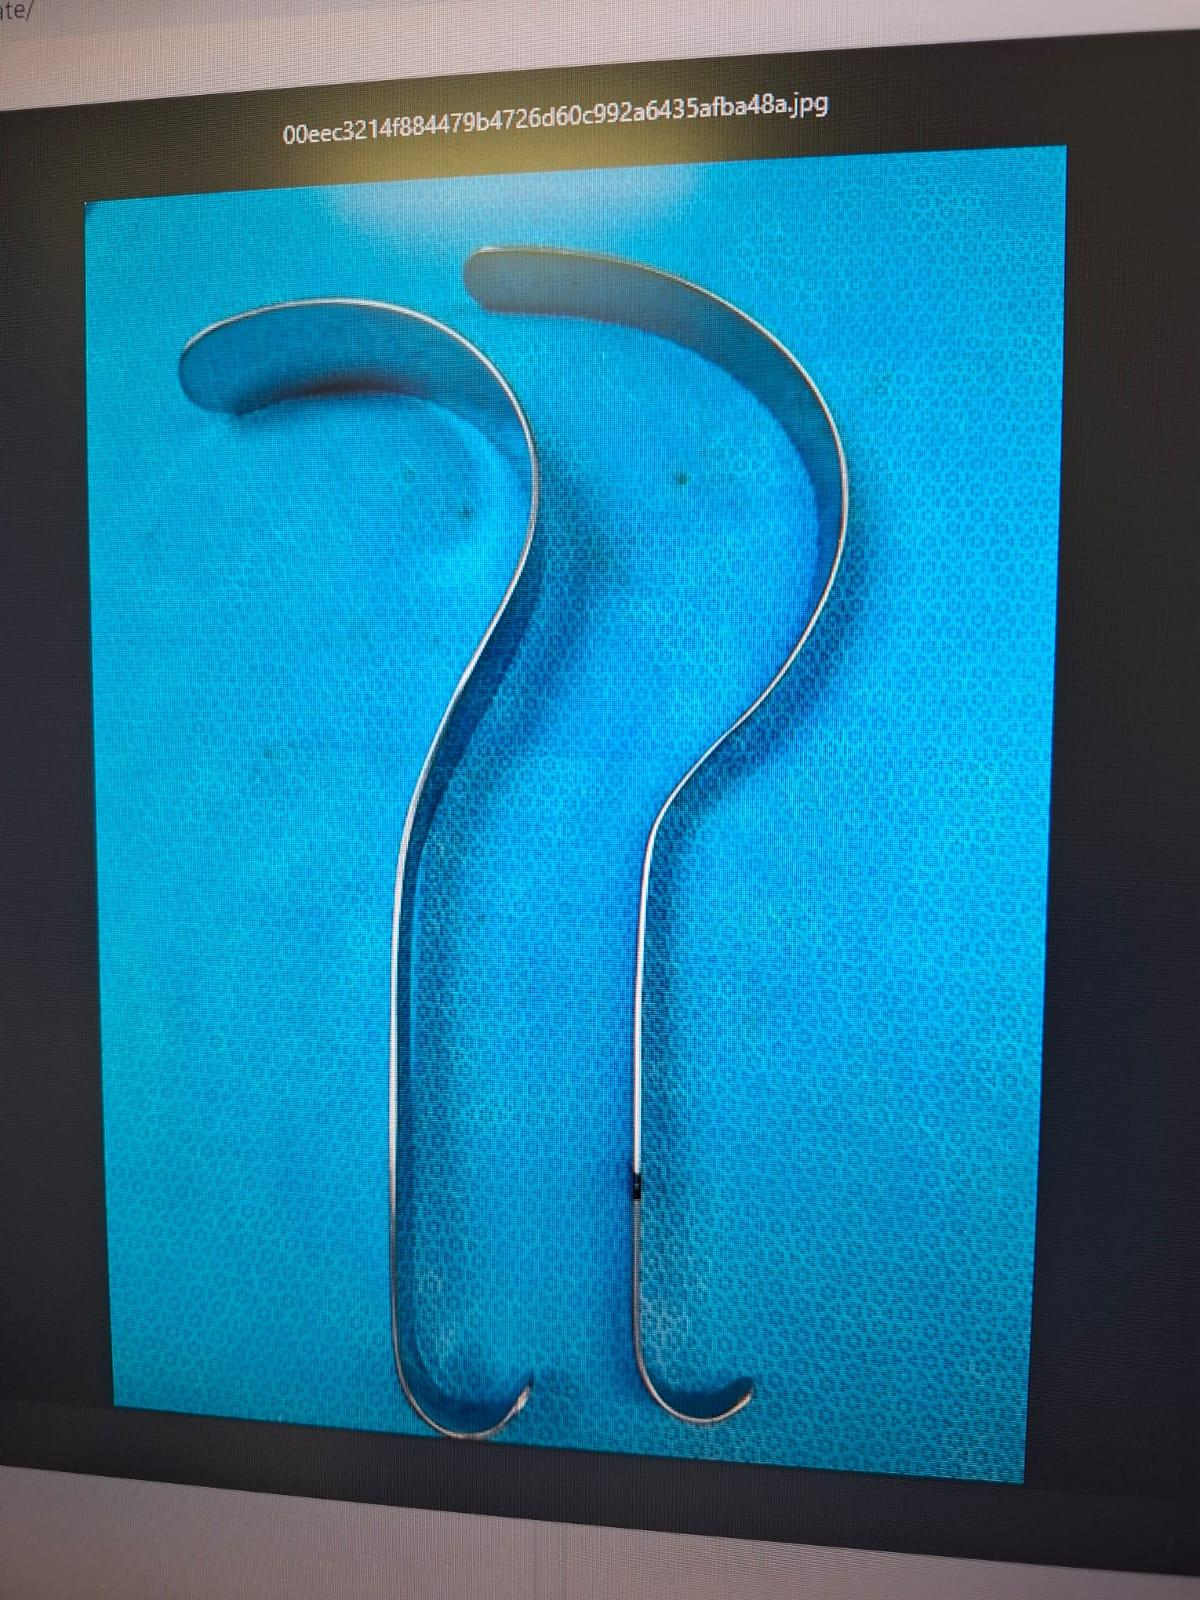Deaver Retractor: (445, 231, 895, 1440), (170, 275, 590, 1458)
